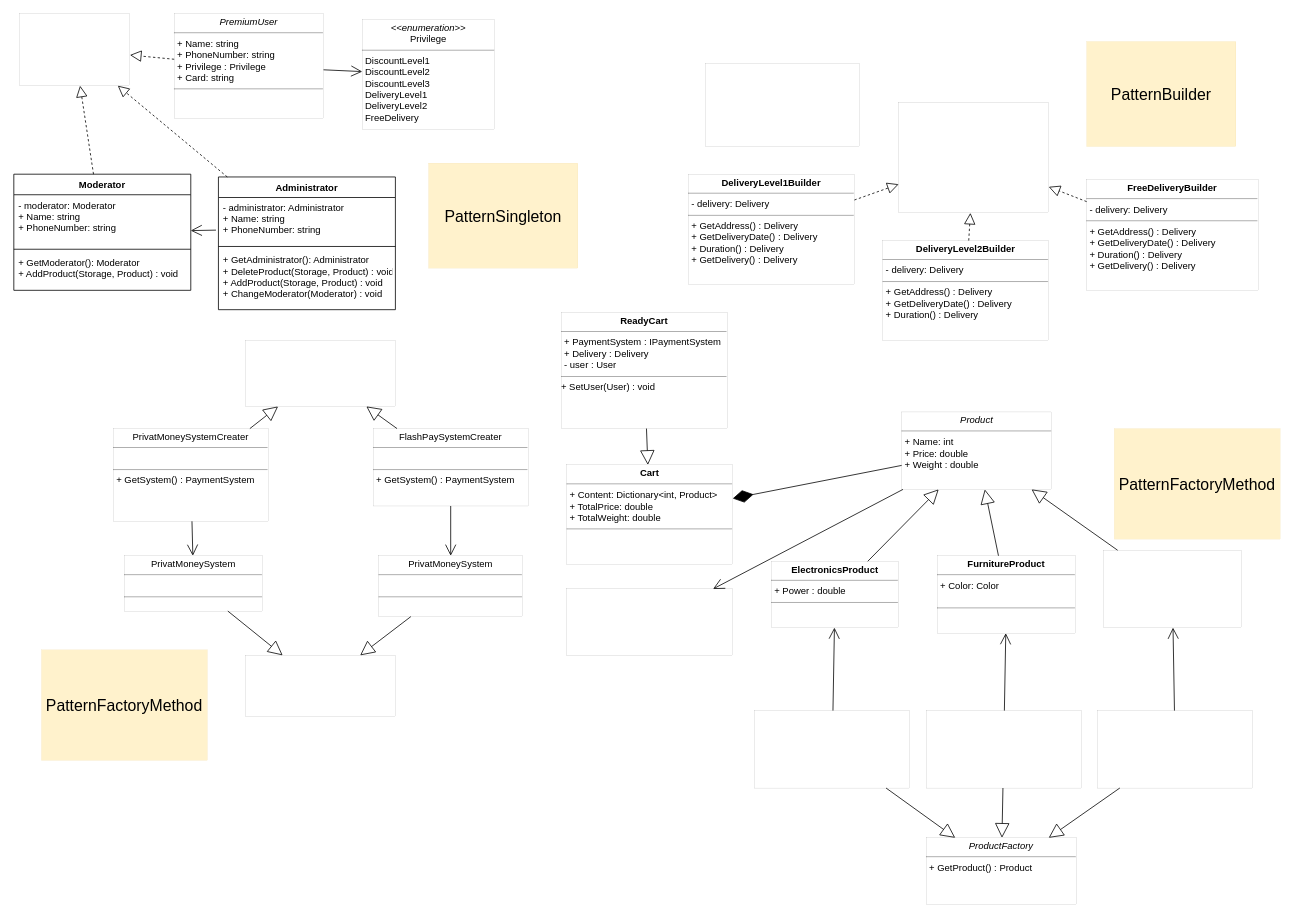
Some shapes in this 1294 by 917 pixel diagram are drawn without their labels. The shapes that lost their labels are listed below. From the top down, each one's centre as x and y in pixels, then its label:
At pixel 74 49: "User + Name: string + PhoneNumber: string".
At pixel 782 104: "Delivery + Address: string + DeliveryDate: DateTime + DuretionInDays: int".
At pixel 973 157: "<<Interface>> IDeliveryBuilder + GetAddress() + GetDeliveryDate() + Duration()".
At pixel 320 373: "PaymentSystemFactory + GetSystem() : PaymentSystem".
At pixel 1172 588: "ClothingProduct + Size: string".
At pixel 649 622: "Storage + Products: Dictionary<int, Product>".
At pixel 320 685: "PaymentSystem + Name : string".
At pixel 831 749: "ElectonicsProductCreater + GetProduct() : Product".
At pixel 1003 749: "FurnitureProductCreater + GetProduct() : Product".
At pixel 1174 749: "ClothingProductCreater + GetProduct() : Product".
